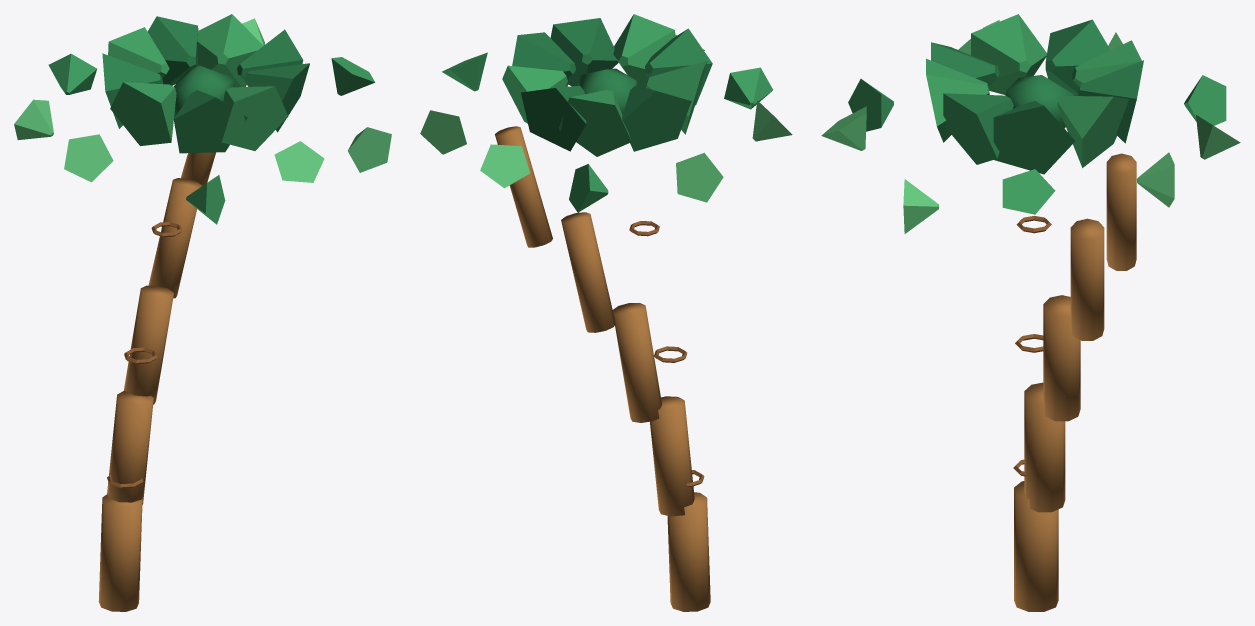
File: hd_palm_a.gltf
The picture shows the model from 3 angles, left to right: view 1: azimuth 30°, elevation 25°; view 2: azimuth 150°, elevation 25°; view 3: azimuth 270°, elevation 25°; orthographic projection. The views are drawn at different scales.
Parts seen in each view (by area): view 1: trunk0, trunk1, trunk2, fr5a, fr7a, trunk3, fr6a, fr1a, fr2a, fr8a, fr3a, fr5b (+10 smaller); view 2: trunk0, trunk1, trunk2, trunk3, fr4a, fr2a, fr8a, fr3a, trunk4, fr7a, fr6a, fr0a (+10 smaller); view 3: trunk0, trunk1, trunk2, trunk3, fr0a, fr5a, trunk4, fr8a, fr1a, fr4a, fr7a, fr2a (+10 smaller).
Part boxes in pixels (box(x1,y1,x2,y2)): trunk0: box(98, 494, 142, 611); trunk1: box(107, 391, 153, 504); trunk2: box(123, 285, 173, 404); fr5a: box(110, 82, 176, 145); fr7a: box(221, 86, 288, 150); trunk3: box(148, 178, 201, 298); fr6a: box(173, 90, 247, 153); fr1a: box(197, 14, 263, 87); fr2a: box(147, 16, 198, 85); fr8a: box(244, 63, 309, 132); fr3a: box(108, 27, 169, 78); fr5b: box(64, 134, 113, 182); trunk0: box(667, 492, 710, 611); trunk1: box(650, 396, 694, 516); trunk2: box(612, 303, 661, 422); trunk3: box(561, 212, 615, 332); fr4a: box(622, 85, 691, 151); fr2a: box(521, 85, 586, 151); fr8a: box(550, 18, 618, 86); fr3a: box(558, 90, 631, 156); trunk4: box(495, 126, 552, 247); fr7a: box(613, 14, 675, 87); fr6a: box(645, 28, 712, 105); fr0a: box(512, 32, 575, 78); trunk0: box(1014, 481, 1058, 611); trunk1: box(1024, 382, 1065, 512); trunk2: box(1043, 295, 1080, 421); trunk3: box(1070, 218, 1104, 340); fr0a: box(993, 101, 1075, 174); fr5a: box(971, 14, 1046, 95); trunk4: box(1106, 153, 1136, 270); fr8a: box(943, 93, 1013, 164); fr1a: box(1057, 95, 1128, 167); fr4a: box(1045, 19, 1110, 95); fr7a: box(926, 58, 989, 142); fr2a: box(1078, 60, 1143, 143).
Bounding box in the file's own units: 3.15 × 4.88 × 3.15.
